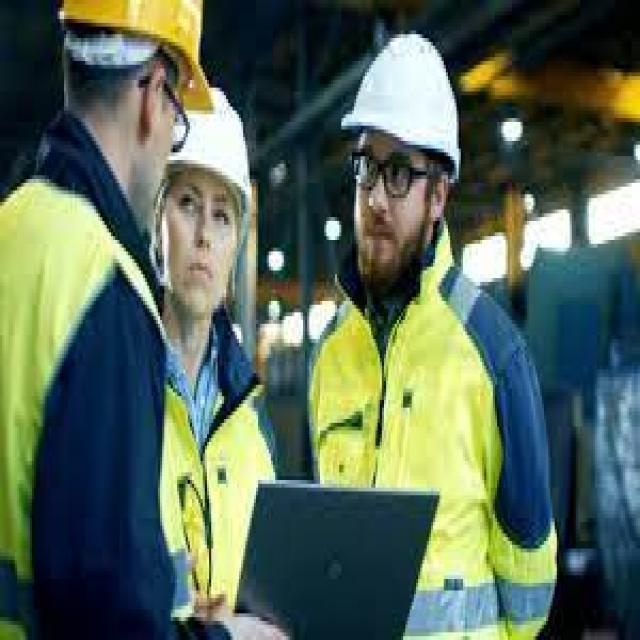white helmet: (344, 29, 486, 184), (173, 91, 271, 221)
yellow helmet: (49, 1, 224, 111)
